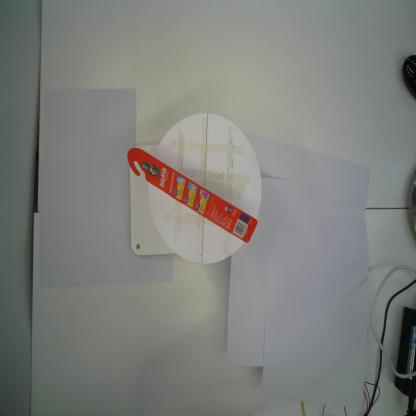Personal Hygiene: (126, 147, 258, 243)
